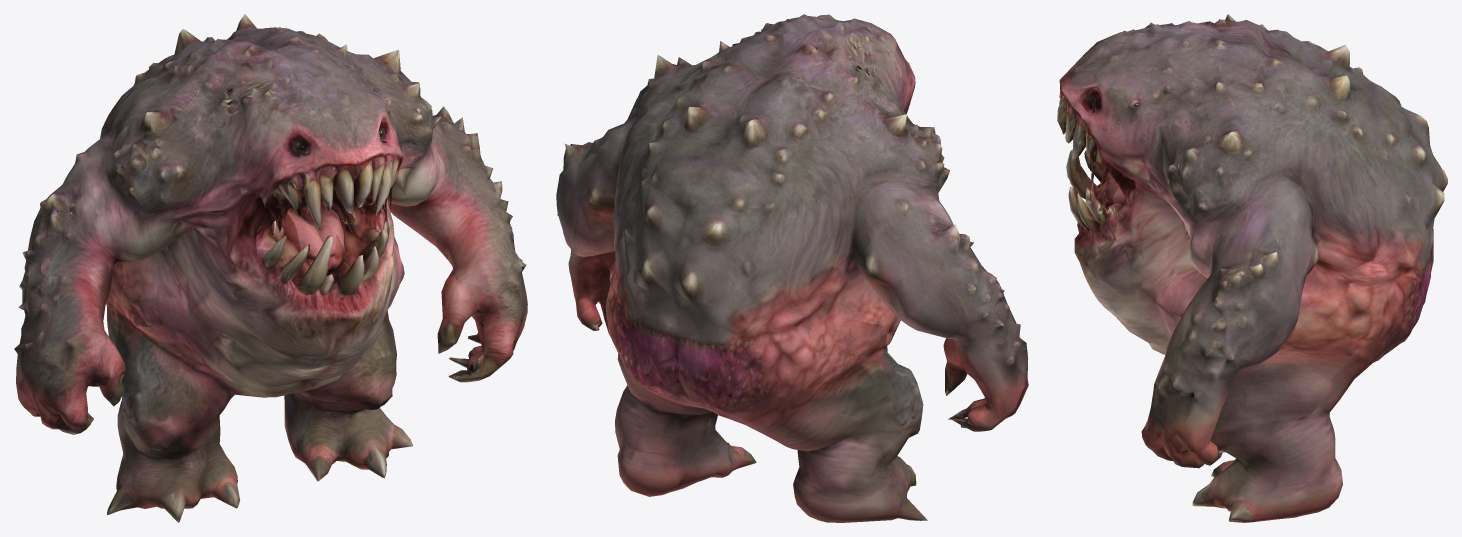
File: mf_feeder.glb
3 views of the same model, side by side, from view 1: azimuth 30°, elevation 25°; view 2: azimuth 150°, elevation 25°; view 3: azimuth 270°, elevation 25° (orthographic). The views are drawn at different scales.
Parts seen in each view (by area): view 1: Model; view 2: Model; view 3: Model.
Boxes of the visible parts, <box> form: Model: <box>14,14,527,522</box>; Model: <box>556,14,1028,522</box>; Model: <box>1057,14,1447,522</box>.
Size of the model in its own units: 1.99 by 1.8 by 1.46.
1 material, 1 textured.
